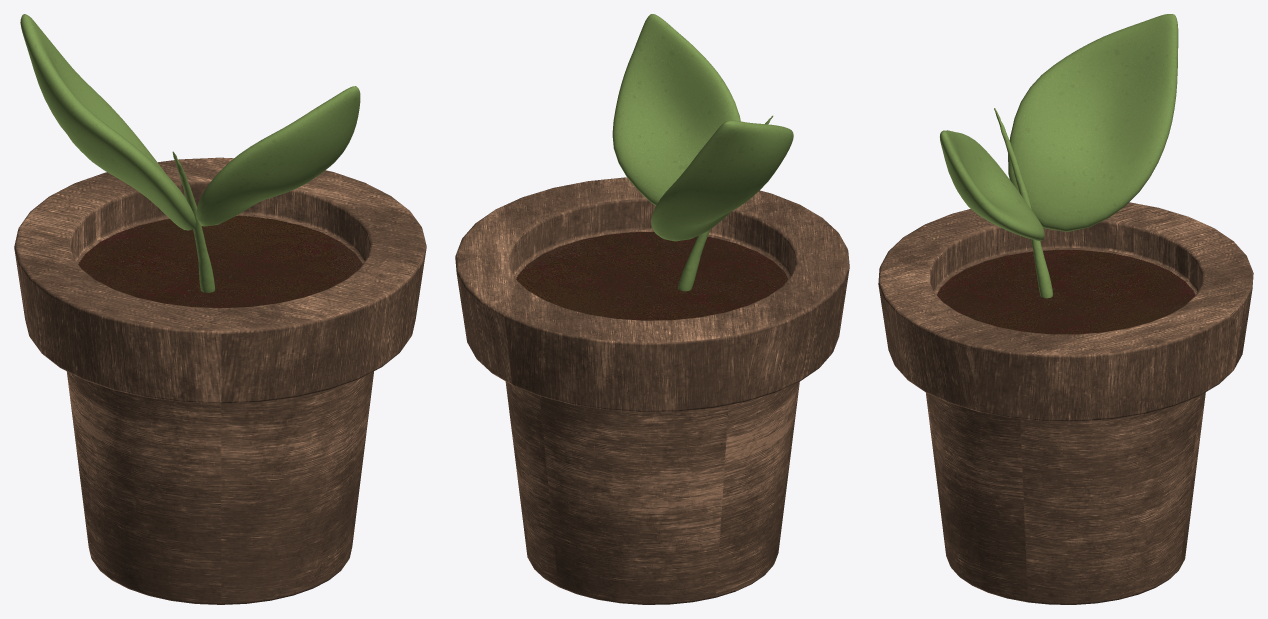
The model's file is sadzonka_lab.fbx.
The picture shows the model from 3 angles, left to right: view 1: azimuth 30°, elevation 25°; view 2: azimuth 150°, elevation 25°; view 3: azimuth 270°, elevation 25°; orthographic projection. The views are drawn at different scales.
Parts seen in each view (by area): view 1: sadzonka_doniczka, sadzonka_lisc1; view 2: sadzonka_doniczka, sadzonka_lisc1; view 3: sadzonka_doniczka, sadzonka_lisc1.
Part boxes in pixels (box(x1,y1,x2,y2)): sadzonka_doniczka: box(14, 157, 426, 604); sadzonka_lisc1: box(20, 14, 360, 292); sadzonka_doniczka: box(455, 177, 849, 604); sadzonka_lisc1: box(612, 14, 793, 291); sadzonka_doniczka: box(878, 202, 1253, 604); sadzonka_lisc1: box(940, 14, 1178, 298).
Size of the model in its own units: 41.5 by 58.62 by 41.5.
4 materials, 4 textured.
